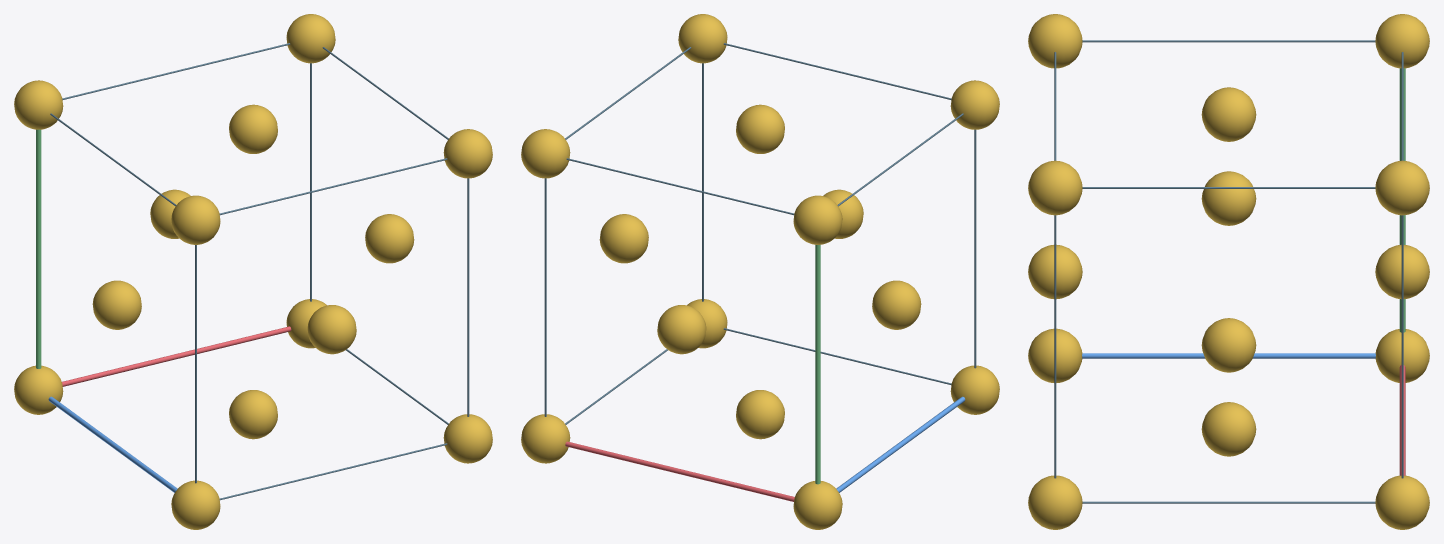
File: native-gold.glb
The picture shows the model from 3 angles, left to right: view 1: azimuth 30°, elevation 25°; view 2: azimuth 150°, elevation 25°; view 3: azimuth 270°, elevation 25°; orthographic projection. The views are drawn at different scales.
Visible parts, largest first — view 1: Au · Au · 1 (×14), Ô mạng và các trục a, b, c; view 2: Au · Au · 1 (×14), Ô mạng và các trục a, b, c; view 3: Au · Au · 1 (×14), Ô mạng và các trục a, b, c.
Part boxes in pixels (box(x1,y1,x2,y2)): Au · Au · 1 (×14): box(14, 14, 492, 529); Ô mạng và các trục a, b, c: box(36, 43, 469, 500); Au · Au · 1 (×14): box(521, 14, 999, 529); Ô mạng và các trục a, b, c: box(544, 43, 976, 501); Au · Au · 1 (×14): box(1028, 14, 1429, 529); Ô mạng và các trục a, b, c: box(1054, 40, 1405, 503).
Bounding box in the file's own units: 4.71 × 4.71 × 4.71.
